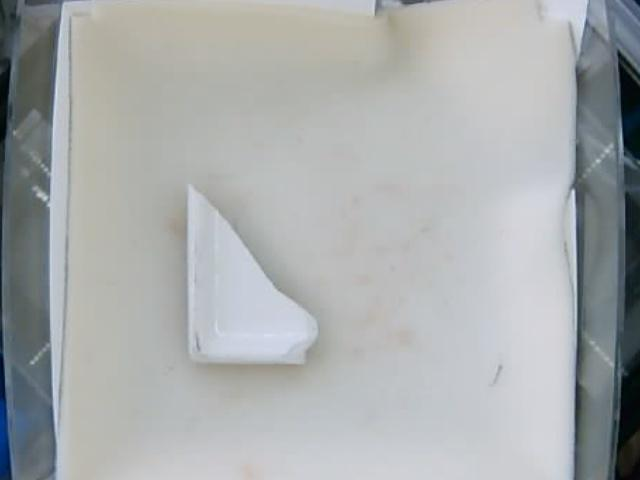China: (186, 182, 317, 363)
